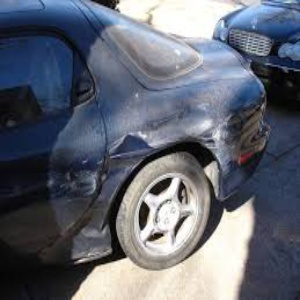door: (16, 145, 117, 266)
